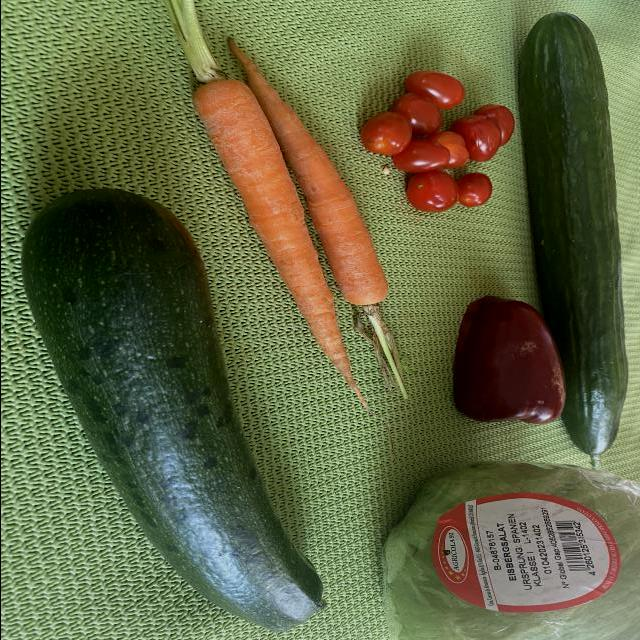carrot: (217, 47, 382, 407)
cucumber: (519, 7, 632, 487)
tomato: (402, 72, 468, 112), (406, 174, 455, 220), (394, 96, 446, 136), (363, 115, 411, 155), (482, 101, 523, 147), (397, 140, 450, 170), (459, 174, 496, 214)
zucchini: (17, 185, 339, 640)
